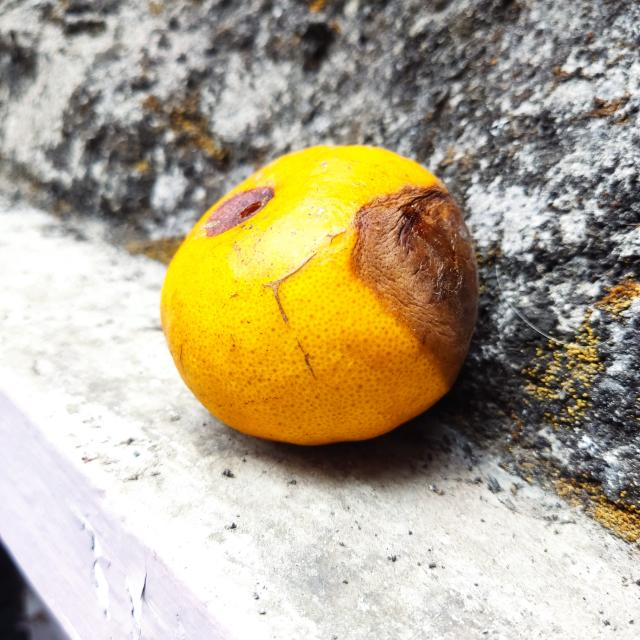orange: (158, 144, 482, 449)
